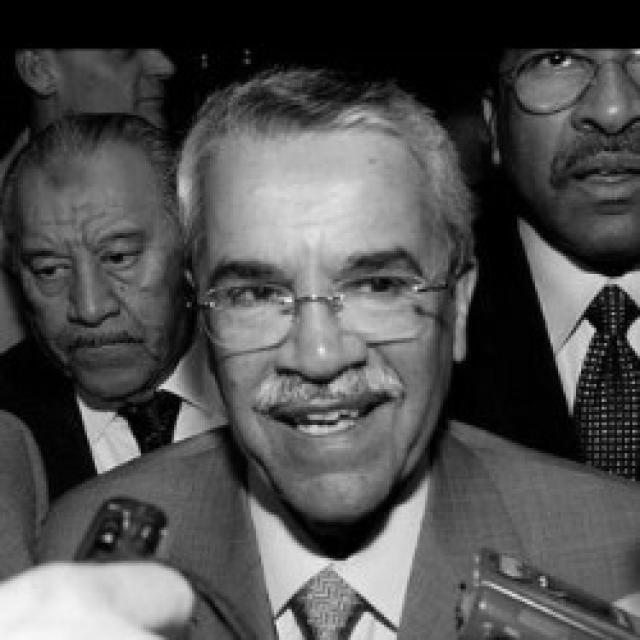real: (197, 120, 455, 530), (0, 118, 186, 391), (485, 52, 640, 264), (225, 276, 414, 317), (33, 246, 146, 287), (536, 46, 640, 80)
